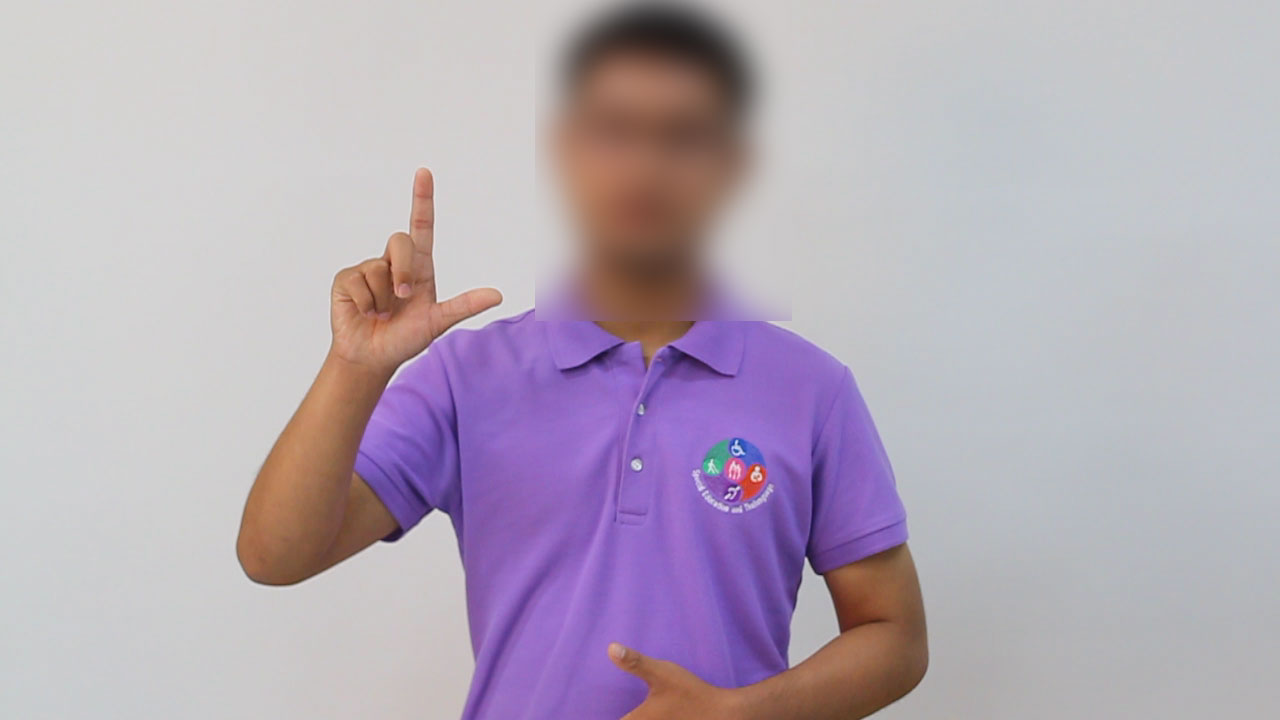lor: (311, 155, 522, 388)
